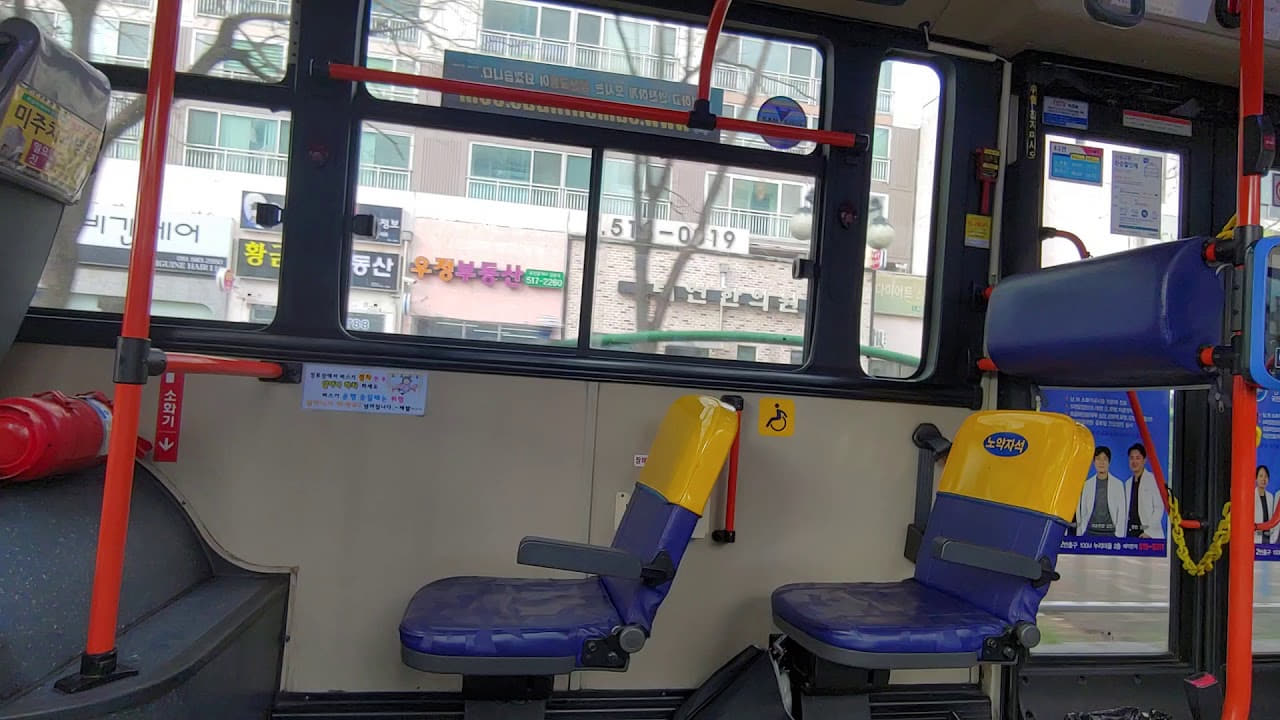seat: (782, 411, 1076, 655)
